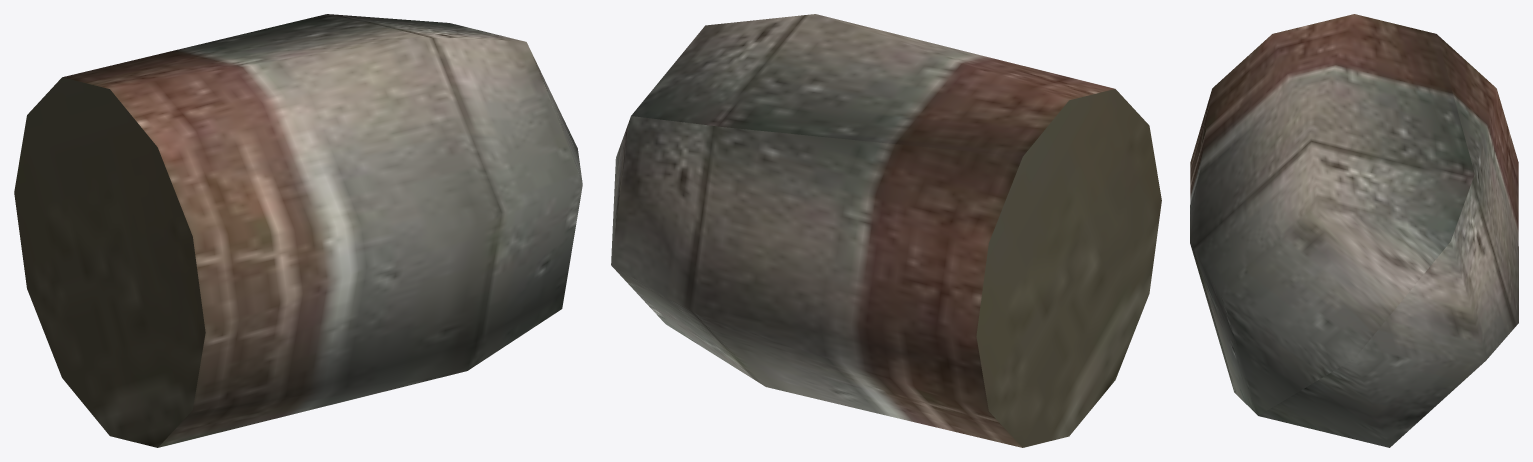
The model's file is projectile_m203grenade.glb.
3 views of the same model, side by side, from view 1: azimuth 30°, elevation 25°; view 2: azimuth 150°, elevation 25°; view 3: azimuth 270°, elevation 25° (orthographic). The views are drawn at different scales.
Parts seen in each view (by area): view 1: projectile_m203grenade; view 2: projectile_m203grenade; view 3: projectile_m203grenade.
Boxes of the visible parts, x1,y1,x2,y2 form: projectile_m203grenade: [14, 14, 582, 447]; projectile_m203grenade: [611, 14, 1161, 447]; projectile_m203grenade: [1190, 14, 1518, 447].
Size of the model in its own units: 0.0874 by 0.062 by 0.062.
1 material, 1 textured.
